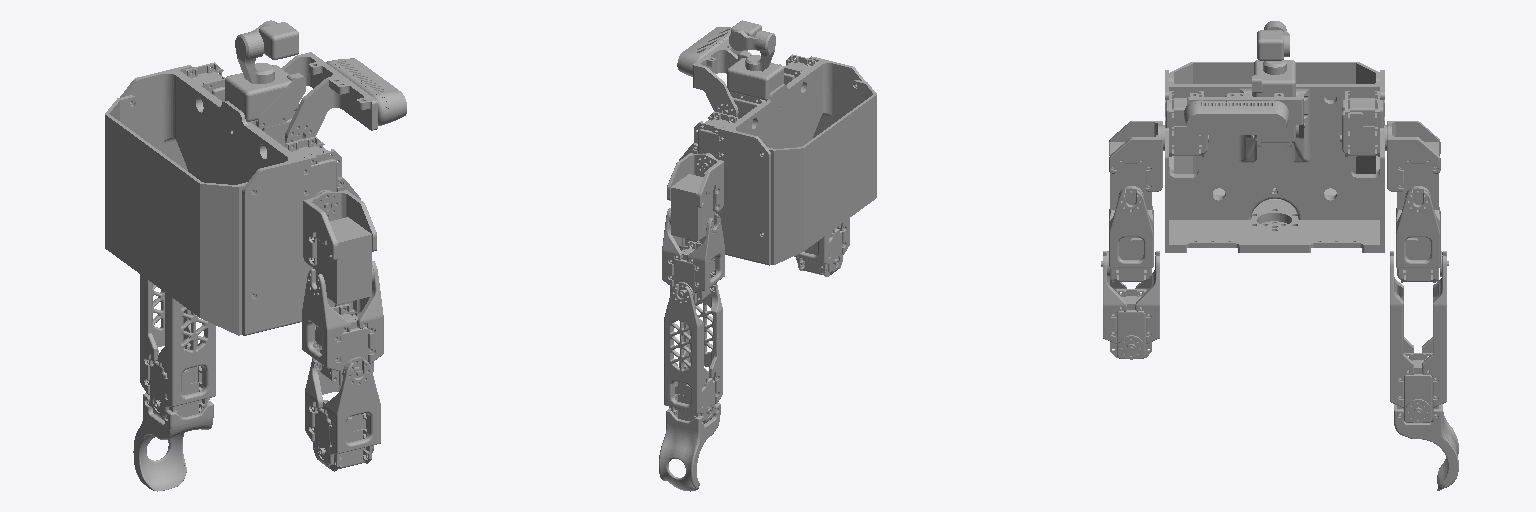
The robot description file, URDF, robot "irc_man":
<?xml version="1.0" ?>
<!-- =================================================================================== -->
<!-- |    This document was autogenerated by xacro from src/irc_man_description/urdf/irc_man.xacro | -->
<!-- |    EDITING THIS FILE BY HAND IS NOT RECOMMENDED                                 | -->
<!-- =================================================================================== -->
<robot name="irc_man">
  <material name="silver">
    <color rgba="0.700 0.700 0.700 1.000"/>
  </material>
  <transmission name="torso_yaw_tran">
    <type>transmission_interface/SimpleTransmission</type>
    <joint name="torso_yaw">
      <hardwareInterface>hardware_interface/EffortJointInterface</hardwareInterface>
    </joint>
    <actuator name="torso_yaw_actr">
      <hardwareInterface>hardware_interface/EffortJointInterface</hardwareInterface>
      <mechanicalReduction>1</mechanicalReduction>
    </actuator>
  </transmission>
  <transmission name="tilt_tran">
    <type>transmission_interface/SimpleTransmission</type>
    <joint name="tilt">
      <hardwareInterface>hardware_interface/EffortJointInterface</hardwareInterface>
    </joint>
    <actuator name="tilt_actr">
      <hardwareInterface>hardware_interface/EffortJointInterface</hardwareInterface>
      <mechanicalReduction>1</mechanicalReduction>
    </actuator>
  </transmission>
  <transmission name="right_shoulder_pitch_tran">
    <type>transmission_interface/SimpleTransmission</type>
    <joint name="right_shoulder_pitch">
      <hardwareInterface>hardware_interface/EffortJointInterface</hardwareInterface>
    </joint>
    <actuator name="right_shoulder_pitch_actr">
      <hardwareInterface>hardware_interface/EffortJointInterface</hardwareInterface>
      <mechanicalReduction>1</mechanicalReduction>
    </actuator>
  </transmission>
  <transmission name="right_shoulder_roll_tran">
    <type>transmission_interface/SimpleTransmission</type>
    <joint name="right_shoulder_roll">
      <hardwareInterface>hardware_interface/EffortJointInterface</hardwareInterface>
    </joint>
    <actuator name="right_shoulder_roll_actr">
      <hardwareInterface>hardware_interface/EffortJointInterface</hardwareInterface>
      <mechanicalReduction>1</mechanicalReduction>
    </actuator>
  </transmission>
  <transmission name="right_elbow_pitch_tran">
    <type>transmission_interface/SimpleTransmission</type>
    <joint name="right_elbow_pitch">
      <hardwareInterface>hardware_interface/EffortJointInterface</hardwareInterface>
    </joint>
    <actuator name="right_elbow_pitch_actr">
      <hardwareInterface>hardware_interface/EffortJointInterface</hardwareInterface>
      <mechanicalReduction>1</mechanicalReduction>
    </actuator>
  </transmission>
  <transmission name="left_shoulder_pitch_tran">
    <type>transmission_interface/SimpleTransmission</type>
    <joint name="left_shoulder_pitch">
      <hardwareInterface>hardware_interface/EffortJointInterface</hardwareInterface>
    </joint>
    <actuator name="left_shoulder_pitch_actr">
      <hardwareInterface>hardware_interface/EffortJointInterface</hardwareInterface>
      <mechanicalReduction>1</mechanicalReduction>
    </actuator>
  </transmission>
  <transmission name="left_shoulder_roll_tran">
    <type>transmission_interface/SimpleTransmission</type>
    <joint name="left_shoulder_roll">
      <hardwareInterface>hardware_interface/EffortJointInterface</hardwareInterface>
    </joint>
    <actuator name="left_shoulder_roll_actr">
      <hardwareInterface>hardware_interface/EffortJointInterface</hardwareInterface>
      <mechanicalReduction>1</mechanicalReduction>
    </actuator>
  </transmission>
  <transmission name="left_elbow_pitch_tran">
    <type>transmission_interface/SimpleTransmission</type>
    <joint name="left_elbow_pitch">
      <hardwareInterface>hardware_interface/EffortJointInterface</hardwareInterface>
    </joint>
    <actuator name="left_elbow_pitch_actr">
      <hardwareInterface>hardware_interface/EffortJointInterface</hardwareInterface>
      <mechanicalReduction>1</mechanicalReduction>
    </actuator>
  </transmission>
  <gazebo>
    <plugin filename="libgazebo_ros_control.so" name="control"/>
  </gazebo>
  <gazebo reference="base_link">
    <material>Gazebo/Silver</material>
    <mu1>0.2</mu1>
    <mu2>0.2</mu2>
    <self_collide>true</self_collide>
    <gravity>true</gravity>
  </gazebo>
  <gazebo reference="torso_1">
    <material>Gazebo/Silver</material>
    <mu1>0.2</mu1>
    <mu2>0.2</mu2>
    <self_collide>true</self_collide>
  </gazebo>
  <gazebo reference="eye_1">
    <material>Gazebo/Silver</material>
    <mu1>0.2</mu1>
    <mu2>0.2</mu2>
    <self_collide>true</self_collide>
  </gazebo>
  <gazebo reference="right_shoulder_1">
    <material>Gazebo/Silver</material>
    <mu1>0.2</mu1>
    <mu2>0.2</mu2>
    <self_collide>true</self_collide>
  </gazebo>
  <gazebo reference="right_elbow_1">
    <material>Gazebo/Silver</material>
    <mu1>0.2</mu1>
    <mu2>0.2</mu2>
    <self_collide>true</self_collide>
  </gazebo>
  <gazebo reference="right_arm_1">
    <material>Gazebo/Silver</material>
    <mu1>0.2</mu1>
    <mu2>0.2</mu2>
    <self_collide>true</self_collide>
  </gazebo>
  <gazebo reference="left_shoulder_1">
    <material>Gazebo/Silver</material>
    <mu1>0.2</mu1>
    <mu2>0.2</mu2>
    <self_collide>true</self_collide>
  </gazebo>
  <gazebo reference="left_elbow_1">
    <material>Gazebo/Silver</material>
    <mu1>0.2</mu1>
    <mu2>0.2</mu2>
    <self_collide>true</self_collide>
  </gazebo>
  <gazebo reference="left_arm_1">
    <material>Gazebo/Silver</material>
    <mu1>0.2</mu1>
    <mu2>0.2</mu2>
    <self_collide>true</self_collide>
  </gazebo>
  <gazebo reference="lense_1">
    <material>Gazebo/Silver</material>
    <mu1>0.2</mu1>
    <mu2>0.2</mu2>
    <self_collide>true</self_collide>
  </gazebo>
  <gazebo reference="ee_link_1">
    <material>Gazebo/Silver</material>
    <mu1>0.2</mu1>
    <mu2>0.2</mu2>
    <self_collide>true</self_collide>
  </gazebo>
  <link name="base_link">
    <inertial>
      <origin rpy="0 0 0" xyz="-2.3124043419132988e-07 3.172028869021894e-07 -0.0030063104842535876"/>
      <mass value="0.07952498436080283"/>
      <inertia ixx="1.4e-05" ixy="-0.0" ixz="0.0" iyy="1.4e-05" iyz="0.0" izz="2.8e-05"/>
    </inertial>
    <visual>
      <origin rpy="0 0 0" xyz="0 0 0"/>
      <geometry>
        <mesh filename="package://humanoid_manipulation/model/meshes/base_link.stl" scale="0.001 0.001 0.001"/>
      </geometry>
      <material name="silver"/>
    </visual>
    <collision>
      <origin rpy="0 0 0" xyz="0 0 0"/>
      <geometry>
        <mesh filename="package://humanoid_manipulation/model/meshes/base_link.stl" scale="0.001 0.001 0.001"/>
      </geometry>
    </collision>
  </link>
  <link name="torso_1">
    <inertial>
      <origin rpy="0 0 0" xyz="-0.003799039169327516 -4.730754612257471e-05 0.07113821966175907"/>
      <mass value="0.7213652863746279"/>
      <inertia ixx="0.004469" ixy="1e-06" ixz="-0.00032" iyy="0.002654" iyz="4e-06" izz="0.003278"/>
    </inertial>
    <visual>
      <origin rpy="0 0 0" xyz="0.0 -0.0 0.0"/>
      <geometry>
        <mesh filename="package://humanoid_manipulation/model/meshes/torso_1.stl" scale="0.001 0.001 0.001"/>
      </geometry>
      <material name="silver"/>
    </visual>
    <collision>
      <origin rpy="0 0 0" xyz="0.0 -0.0 0.0"/>
      <geometry>
        <mesh filename="package://humanoid_manipulation/model/meshes/torso_1.stl" scale="0.001 0.001 0.001"/>
      </geometry>
    </collision>
  </link>
  <link name="eye_1">
    <inertial>
      <origin rpy="0 0 0" xyz="0.04058710699292955 -0.04689410446400952 0.02770864918713309"/>
      <mass value="0.074467231176937"/>
      <inertia ixx="6.2e-05" ixy="1e-05" ixz="-5e-06" iyy="2.3e-05" iyz="3e-06" izz="7.2e-05"/>
    </inertial>
    <visual>
      <origin rpy="0 0 0" xyz="-0.0386 -0.0205 -0.1152"/>
      <geometry>
        <mesh filename="package://humanoid_manipulation/model/meshes/eye_1.stl" scale="0.001 0.001 0.001"/>
      </geometry>
      <material name="silver"/>
    </visual>
    <collision>
      <origin rpy="0 0 0" xyz="-0.0386 -0.0205 -0.1152"/>
      <geometry>
        <mesh filename="package://humanoid_manipulation/model/meshes/eye_1.stl" scale="0.001 0.001 0.001"/>
      </geometry>
    </collision>
  </link>
  <link name="right_shoulder_1">
    <inertial>
      <origin rpy="0 0 0" xyz="0.0005049273134807887 -0.02447259148527156 -0.031166890704454567"/>
      <mass value="0.07546652228005392"/>
      <inertia ixx="3.3e-05" ixy="0.0" ixz="1e-06" iyy="3.2e-05" iyz="-4e-06" izz="1.9e-05"/>
    </inertial>
    <visual>
      <origin rpy="0 0 0" xyz="-0.0178 0.0955 -0.0935"/>
      <geometry>
        <mesh filename="package://humanoid_manipulation/model/meshes/right_shoulder_1.stl" scale="0.001 0.001 0.001"/>
      </geometry>
      <material name="silver"/>
    </visual>
    <collision>
      <origin rpy="0 0 0" xyz="-0.0178 0.0955 -0.0935"/>
      <geometry>
        <mesh filename="package://humanoid_manipulation/model/meshes/right_shoulder_1.stl" scale="0.001 0.001 0.001"/>
      </geometry>
    </collision>
  </link>
  <link name="right_elbow_1">
    <inertial>
      <origin rpy="0 0 0" xyz="-0.02050023606989214 -0.000214187463832477 -0.049599168056143755"/>
      <mass value="0.07403494260421477"/>
      <inertia ixx="3.7e-05" ixy="-0.0" ixz="0.0" iyy="4e-05" iyz="-1e-06" izz="2.4e-05"/>
    </inertial>
    <visual>
      <origin rpy="0 0 0" xyz="-0.0383 0.1223 -0.0447"/>
      <geometry>
        <mesh filename="package://humanoid_manipulation/model/meshes/right_elbow_1.stl" scale="0.001 0.001 0.001"/>
      </geometry>
      <material name="silver"/>
    </visual>
    <collision>
      <origin rpy="0 0 0" xyz="-0.0383 0.1223 -0.0447"/>
      <geometry>
        <mesh filename="package://humanoid_manipulation/model/meshes/right_elbow_1.stl" scale="0.001 0.001 0.001"/>
      </geometry>
    </collision>
  </link>
  <link name="right_arm_1">
    <inertial>
      <origin rpy="0 0 0" xyz="0.00021427309110375395 0.020500311943934493 -0.04959916798291851"/>
      <mass value="0.07403494241622034"/>
      <inertia ixx="4e-05" ixy="0.0" ixz="1e-06" iyy="3.7e-05" iyz="0.0" izz="2.4e-05"/>
    </inertial>
    <visual>
      <origin rpy="0 0 0" xyz="-0.0178 0.1428 0.0248"/>
      <geometry>
        <mesh filename="package://humanoid_manipulation/model/meshes/right_arm_1.stl" scale="0.001 0.001 0.001"/>
      </geometry>
      <material name="silver"/>
    </visual>
    <collision>
      <origin rpy="0 0 0" xyz="-0.0178 0.1428 0.0248"/>
      <geometry>
        <mesh filename="package://humanoid_manipulation/model/meshes/right_arm_1.stl" scale="0.001 0.001 0.001"/>
      </geometry>
    </collision>
  </link>
  <link name="left_shoulder_1">
    <inertial>
      <origin rpy="0 0 0" xyz="0.0005049273127306041 0.02447322589309882 -0.031166890704454844"/>
      <mass value="0.07546652228005485"/>
      <inertia ixx="3.3e-05" ixy="-0.0" ixz="1e-06" iyy="3.2e-05" iyz="4e-06" izz="1.9e-05"/>
    </inertial>
    <visual>
      <origin rpy="0 0 0" xyz="-0.0178 -0.0955 -0.0935"/>
      <geometry>
        <mesh filename="package://humanoid_manipulation/model/meshes/left_shoulder_1.stl" scale="0.001 0.001 0.001"/>
      </geometry>
      <material name="silver"/>
    </visual>
    <collision>
      <origin rpy="0 0 0" xyz="-0.0178 -0.0955 -0.0935"/>
      <geometry>
        <mesh filename="package://humanoid_manipulation/model/meshes/left_shoulder_1.stl" scale="0.001 0.001 0.001"/>
      </geometry>
    </collision>
  </link>
  <link name="left_elbow_1">
    <inertial>
      <origin rpy="0 0 0" xyz="-0.02050023698038834 0.0002148102512785771 -0.04959918844517745"/>
      <mass value="0.07403493203963366"/>
      <inertia ixx="3.7e-05" ixy="-0.0" ixz="0.0" iyy="4e-05" iyz="1e-06" izz="2.4e-05"/>
    </inertial>
    <visual>
      <origin rpy="0 0 0" xyz="-0.0383 -0.1223 -0.0447"/>
      <geometry>
        <mesh filename="package://humanoid_manipulation/model/meshes/left_elbow_1.stl" scale="0.001 0.001 0.001"/>
      </geometry>
      <material name="silver"/>
    </visual>
    <collision>
      <origin rpy="0 0 0" xyz="-0.0383 -0.1223 -0.0447"/>
      <geometry>
        <mesh filename="package://humanoid_manipulation/model/meshes/left_elbow_1.stl" scale="0.001 0.001 0.001"/>
      </geometry>
    </collision>
  </link>
  <link name="left_arm_1">
    <inertial>
      <origin rpy="0 0 0" xyz="0.00014384173343872514 -0.018084646706314766 -0.10765034296641114"/>
      <mass value="0.13383597743982684"/>
      <inertia ixx="0.000288" ixy="0.0" ixz="1e-06" iyy="0.000273" iyz="2.2e-05" izz="5.5e-05"/>
    </inertial>
    <visual>
      <origin rpy="0 0 0" xyz="-0.0178 -0.1428 0.0248"/>
      <geometry>
        <mesh filename="package://humanoid_manipulation/model/meshes/left_arm_1.stl" scale="0.001 0.001 0.001"/>
      </geometry>
      <material name="silver"/>
    </visual>
    <collision>
      <origin rpy="0 0 0" xyz="-0.0178 -0.1428 0.0248"/>
      <geometry>
        <mesh filename="package://humanoid_manipulation/model/meshes/left_arm_1.stl" scale="0.001 0.001 0.001"/>
      </geometry>
    </collision>
  </link>
  <link name="lense_1">
    <inertial>
      <origin rpy="0 0 0" xyz="0.024000073605272093 -0.024499682797114813 0.00079618590218411"/>
      <mass value="4.3157629078691544e-08"/>
      <inertia ixx="0.0" ixy="-0.0" ixz="0.0" iyy="0.0" iyz="0.0" izz="0.0"/>
    </inertial>
    <visual>
      <origin rpy="0 0 0" xyz="-0.073492 -0.0245 -0.144583"/>
      <geometry>
        <mesh filename="package://humanoid_manipulation/model/meshes/lense_1.stl" scale="0.001 0.001 0.001"/>
      </geometry>
      <material name="silver"/>
    </visual>
    <collision>
      <origin rpy="0 0 0" xyz="-0.073492 -0.0245 -0.144583"/>
      <geometry>
        <mesh filename="package://humanoid_manipulation/model/meshes/lense_1.stl" scale="0.001 0.001 0.001"/>
      </geometry>
    </collision>
  </link>
  <link name="ee_link_1">
    <inertial>
      <origin rpy="0 0 0" xyz="-0.019000231243697287 3.17202137334327e-07 -5.411107567299123e-07"/>
      <mass value="4.3157629078691544e-08"/>
      <inertia ixx="0.0" ixy="-0.0" ixz="0.0" iyy="0.0" iyz="0.0" izz="0.0"/>
    </inertial>
    <visual>
      <origin rpy="0 0 0" xyz="-0.0369 -0.1223 0.20665"/>
      <geometry>
        <mesh filename="package://humanoid_manipulation/model/meshes/ee_link_1.stl" scale="0.001 0.001 0.001"/>
      </geometry>
      <material name="silver"/>
    </visual>
    <collision>
      <origin rpy="0 0 0" xyz="-0.0369 -0.1223 0.20665"/>
      <geometry>
        <mesh filename="package://humanoid_manipulation/model/meshes/ee_link_1.stl" scale="0.001 0.001 0.001"/>
      </geometry>
    </collision>
  </link>
  <joint name="torso_yaw" type="revolute">
    <origin rpy="0 0 0" xyz="0.0 0.0 0.0"/>
    <parent link="base_link"/>
    <child link="torso_1"/>
    <axis xyz="0.0 0.0 1.0"/>
    <limit lower="-2.3" upper="2.3" effort="100.0" velocity="1.0"/>
  </joint>
  <joint name="tilt" type="revolute">
    <origin rpy="0 0 0" xyz="0.0386 0.0205 0.1152"/>
    <parent link="torso_1"/>
    <child link="eye_1"/>
    <axis xyz="-0.0 1.0 -0.0"/>
    <limit lower="-3.14159" upper="3.14159" effort="100.0" velocity="1.0"/>
  </joint>
  <joint name="right_shoulder_pitch" type="revolute">
    <origin rpy="0 0 0" xyz="0.0178 -0.0955 0.0935"/>
    <parent link="torso_1"/>
    <child link="right_shoulder_1"/>
    <axis xyz="0.0 -1.0 0.0"/>
    <limit lower="-3.14159" upper="3.14159" effort="100.0" velocity="1.0"/>
  </joint>
  <joint name="right_shoulder_roll" type="revolute">
    <origin rpy="0 0 0" xyz="0.0205 -0.0268 -0.0488"/>
    <parent link="right_shoulder_1"/>
    <child link="right_elbow_1"/>
    <axis xyz="1.0 -0.0 0.0"/>
    <limit lower="-3.14159" upper="3.14159" effort="100.0" velocity="1.0"/>
  </joint>
  <joint name="right_elbow_pitch" type="revolute">
    <origin rpy="0 0 0" xyz="-0.0205 -0.0205 -0.0695"/>
    <parent link="right_elbow_1"/>
    <child link="right_arm_1"/>
    <axis xyz="0.0 -1.0 0.0"/>
    <limit lower="-3.14159" upper="3.14159" effort="100.0" velocity="1.0"/>
  </joint>
  <joint name="left_shoulder_pitch" type="revolute">
    <origin rpy="0 0 0" xyz="0.0178 0.0955 0.0935"/>
    <parent link="torso_1"/>
    <child link="left_shoulder_1"/>
    <axis xyz="-0.0 1.0 0.0"/>
    <limit lower="-3.14" upper="3.14" effort="100.0" velocity="1.0"/>
  </joint>
  <joint name="left_shoulder_roll" type="revolute">
    <origin rpy="0 0 0" xyz="0.0205 0.0268 -0.0488"/>
    <parent link="left_shoulder_1"/>
    <child link="left_elbow_1"/>
    <axis xyz="1.0 -0.0 -0.0"/>
    <limit lower="-1.57" upper="1.57" effort="100.0" velocity="1.0"/>
  </joint>
  <joint name="left_elbow_pitch" type="revolute">
    <origin rpy="0 0 0" xyz="-0.0205 0.0205 -0.0695"/>
    <parent link="left_elbow_1"/>
    <child link="left_arm_1"/>
    <axis xyz="-0.0 1.0 0.0"/>
    <limit lower="-1.57" upper="1.57" effort="100.0" velocity="1.0"/>
  </joint>
  <joint name="lasek" type="fixed">
    <origin rpy="0 0 0" xyz="0.034892 0.004 0.029383"/>
    <parent link="eye_1"/>
    <child link="lense_1"/>
  </joint>
  <joint name="ee" type="fixed">
    <origin rpy="0 0 0" xyz="0.015 -0.0205 -0.14"/>
    <parent link="left_arm_1"/>
    <child link="ee_link_1"/>
  </joint>
</robot>

--- Facts derived from the render (not from the file) ---
Views: 3 orthographic renders of the robot side by side, from view 1: azimuth 30°, elevation 25°; view 2: azimuth 150°, elevation 25°; view 3: azimuth 270°, elevation 25°.
Robot: irc_man — 11 links, 10 joints (8 revolute, 2 fixed); root link base_link; default pose: all joints at 0.
Visible links, largest first — view 1: torso_1, left_arm_1, right_shoulder_1, right_arm_1, eye_1, right_elbow_1; view 2: torso_1, left_arm_1, left_shoulder_1, left_elbow_1, eye_1, right_arm_1; view 3: torso_1, left_arm_1, eye_1, right_arm_1, right_shoulder_1, left_shoulder_1, right_elbow_1, left_elbow_1.
Boxes of the visible links, left/top/right/bottom form: torso_1: left=105, top=20, right=360, bottom=335; left_arm_1: left=133, top=274, right=215, bottom=491; right_shoulder_1: left=303, top=190, right=376, bottom=304; right_arm_1: left=305, top=359, right=380, bottom=471; eye_1: left=281, top=52, right=406, bottom=146; right_elbow_1: left=302, top=261, right=383, bottom=386; torso_1: left=679, top=20, right=876, bottom=265; left_arm_1: left=659, top=284, right=722, bottom=491; left_shoulder_1: left=667, top=153, right=723, bottom=240; left_elbow_1: left=662, top=208, right=724, bottom=304; eye_1: left=677, top=27, right=747, bottom=116; right_arm_1: left=794, top=218, right=849, bottom=276; torso_1: left=1156, top=21, right=1392, bottom=252; left_arm_1: left=1390, top=251, right=1458, bottom=490; eye_1: left=1184, top=93, right=1303, bottom=138; right_arm_1: left=1103, top=251, right=1159, bottom=359; right_shoulder_1: left=1109, top=121, right=1162, bottom=209; left_shoulder_1: left=1387, top=121, right=1440, bottom=209; right_elbow_1: left=1101, top=190, right=1153, bottom=282; left_elbow_1: left=1396, top=190, right=1448, bottom=282.
Bounding box of the posed robot: 0.1755 × 0.3052 × 0.4327 m (x, y, z).
Meshes: 11 distinct files referenced, 11 mesh visuals loaded (11 binary STL).
